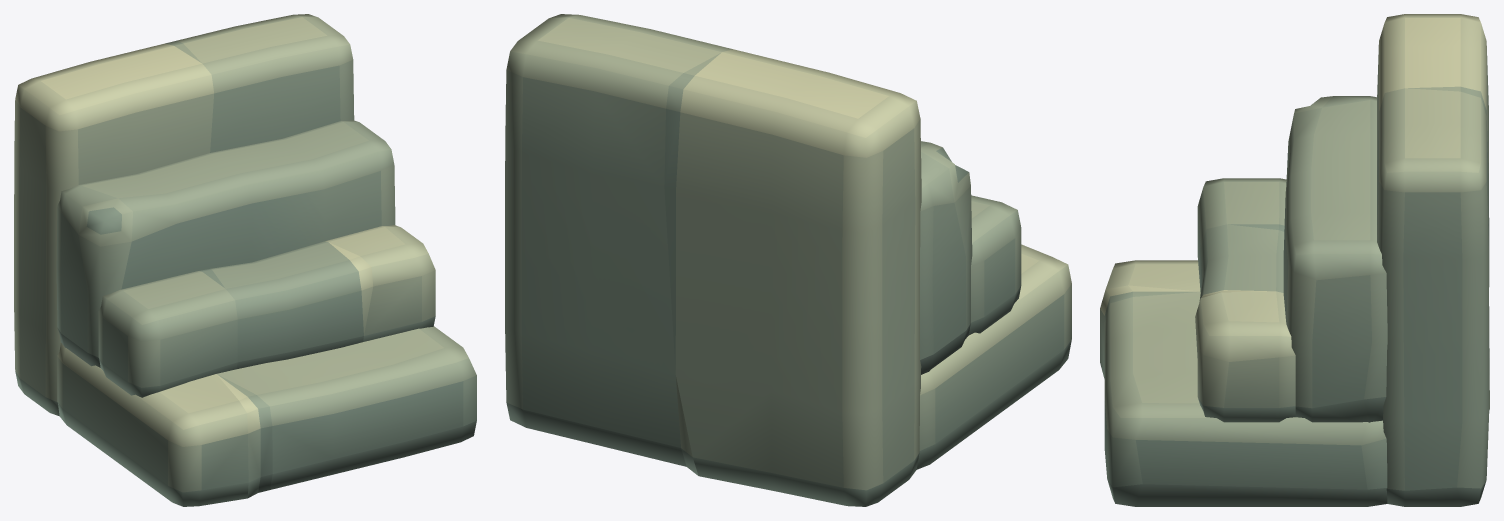
Rendered from stair_stone1_straight_LOD_group.fbx.
3 renders of one model, left to right at view 1: azimuth 30°, elevation 25°; view 2: azimuth 150°, elevation 25°; view 3: azimuth 270°, elevation 25°, orthographic. The views are drawn at different scales.
Parts seen in each view (by area): view 1: stair_stone1_straight_LOD0; view 2: stair_stone1_straight_LOD0; view 3: stair_stone1_straight_LOD0.
Boxes of the visible parts, x1,y1,x2,y2 form: stair_stone1_straight_LOD0: (14,14,476,506); stair_stone1_straight_LOD0: (505,14,1071,506); stair_stone1_straight_LOD0: (1100,14,1489,506).
Size of what is drawn, in the model's own units: 106 by 107 by 108.
Materials: 1 (1 with a texture image).
